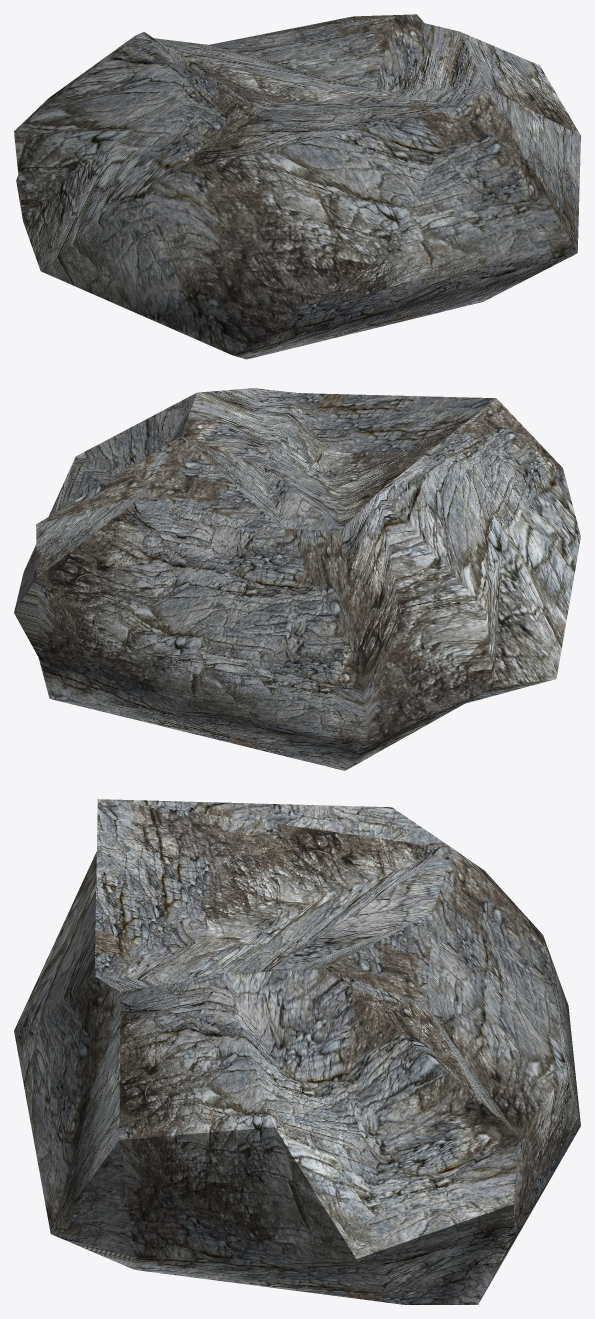
The model's file is Rock0.fbx.
The picture shows the model from 3 angles, top to bottom: view 1: azimuth 30°, elevation 25°; view 2: azimuth 150°, elevation 25°; view 3: azimuth 270°, elevation 25°; orthographic projection. The views are drawn at different scales.
Parts seen in each view (by area): view 1: Cube; view 2: Cube; view 3: Cube.
Boxes of the visible parts, x1,y1,x2,y2 form: Cube: (14, 14, 580, 359); Cube: (14, 388, 580, 770); Cube: (14, 799, 580, 1304).
Size of the model in its own units: 429 by 209 by 330.
1 material, 1 textured.
